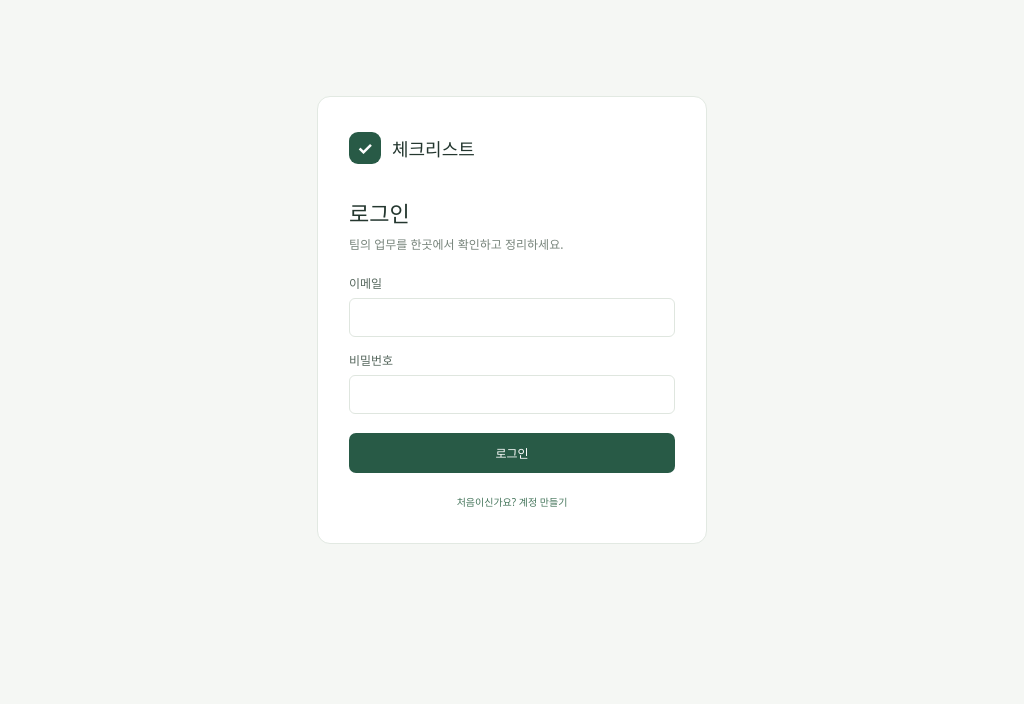
Scenario: 체크리스트 사용자 흐름 › 로그아웃 후 가입 모드가 남지 않고 로그인 폼을 보여준다
This screenshot has width=1024, height=704.
Step 1. Click the button "처음이신가요? 계정 만들기" → {"x": 512, "y": 502}, box [349, 491, 675, 512]
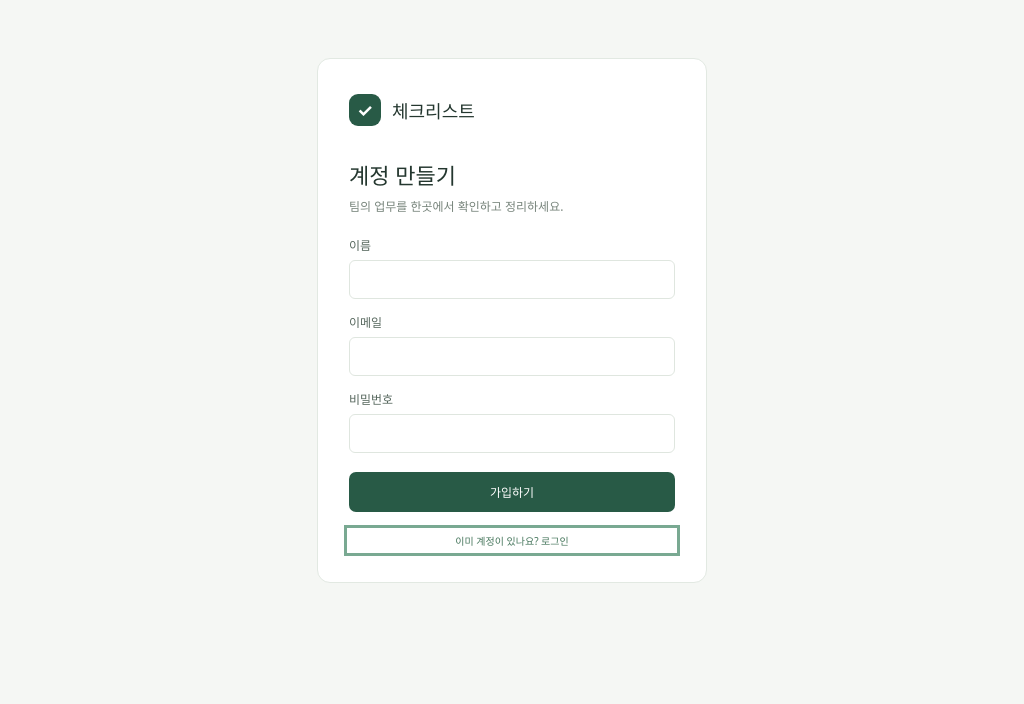
Step 2. Type "민지" into the field labelled "이름" → {"x": 512, "y": 279}, box [349, 260, 675, 298]
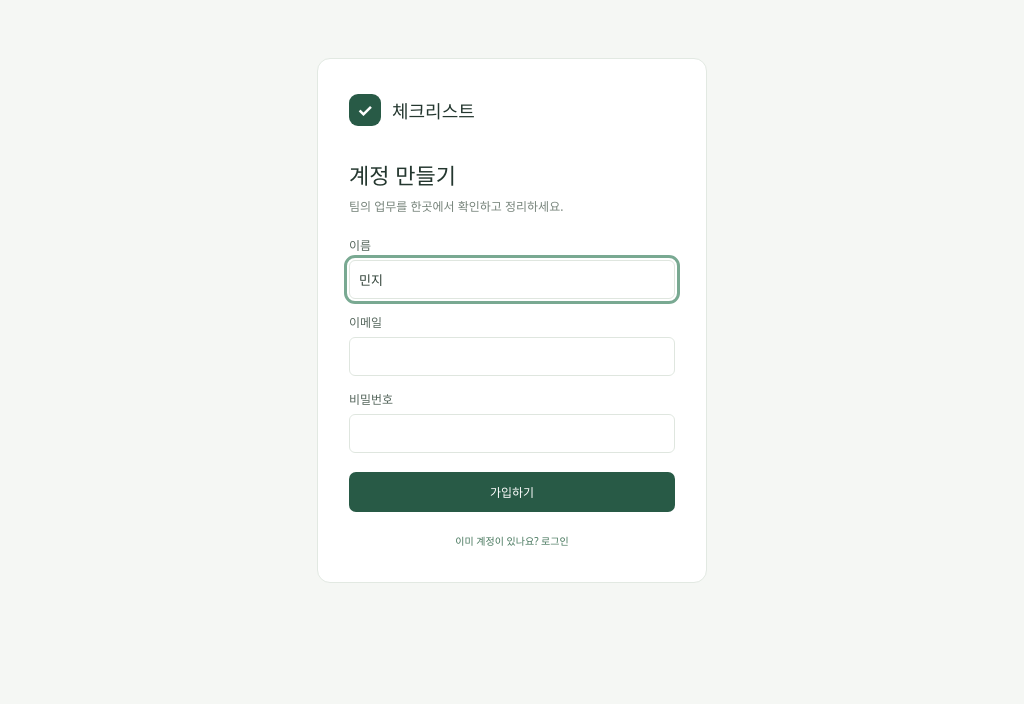
Step 3. Type "minji@example.com" into the field labelled "이메일" → {"x": 512, "y": 356}, box [349, 336, 675, 376]
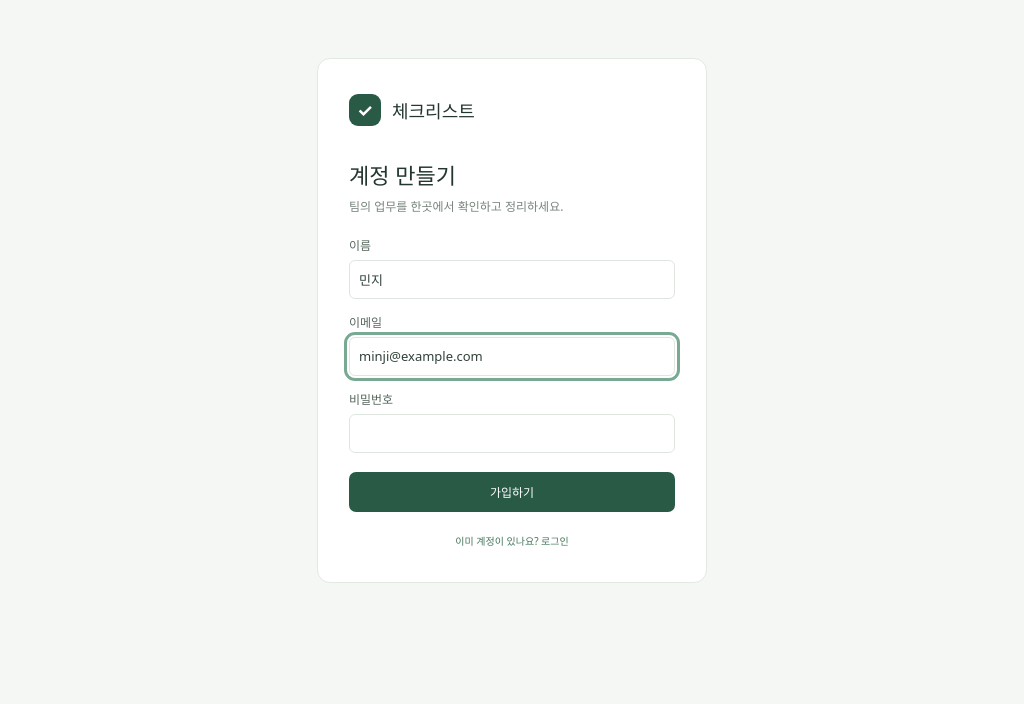
Step 4. Type "secure-pass-1" into the password field labelled "비밀번호" → {"x": 512, "y": 433}, box [349, 414, 675, 452]
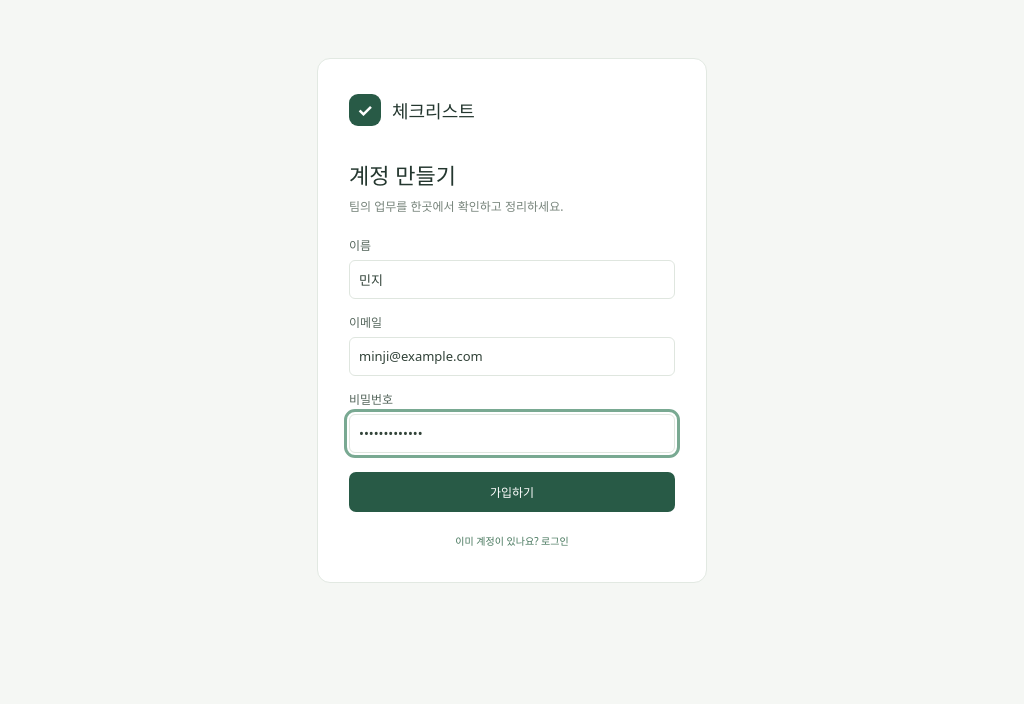
Step 5. Click the button "가입하기" → {"x": 512, "y": 492}, box [349, 472, 675, 512]
(page scrolled)
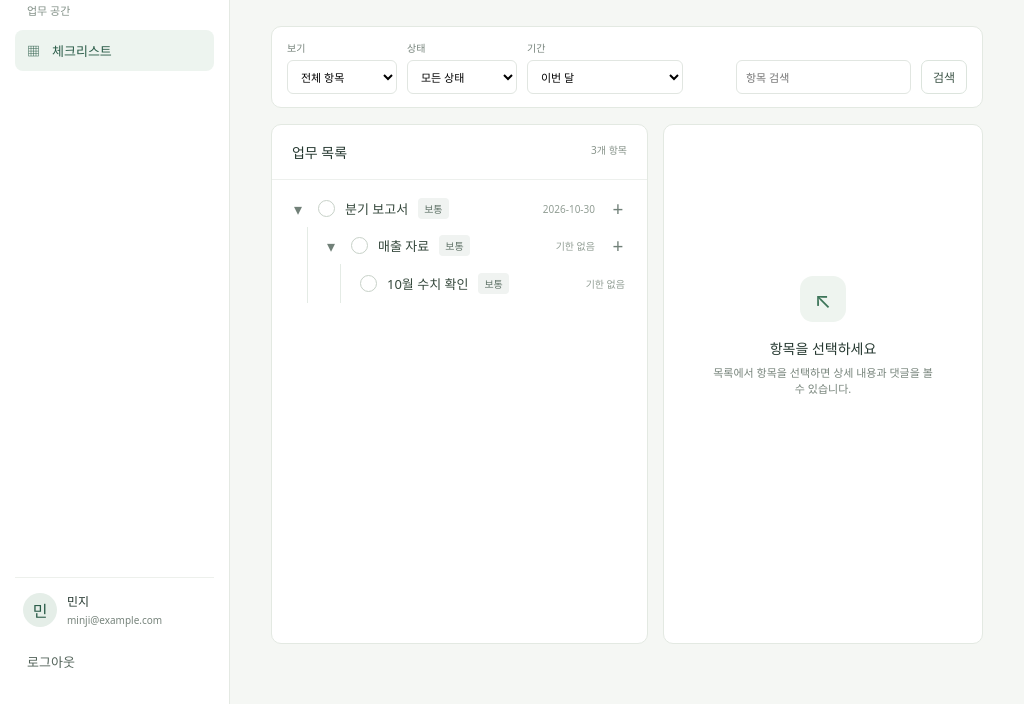
Step 6. Click the button "로그아웃" → {"x": 114, "y": 662}, box [15, 641, 214, 682]
(page scrolled)
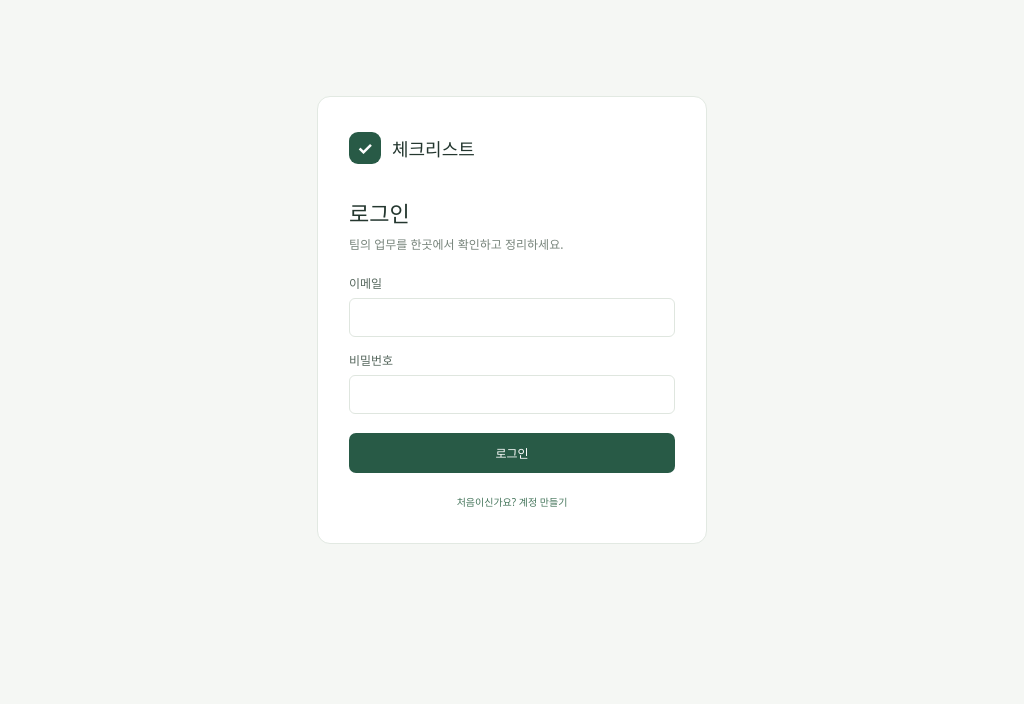
Expected: the label labelled "이름" is not shown
Result: the heading "로그인" is shown at [349, 198, 410, 228]
